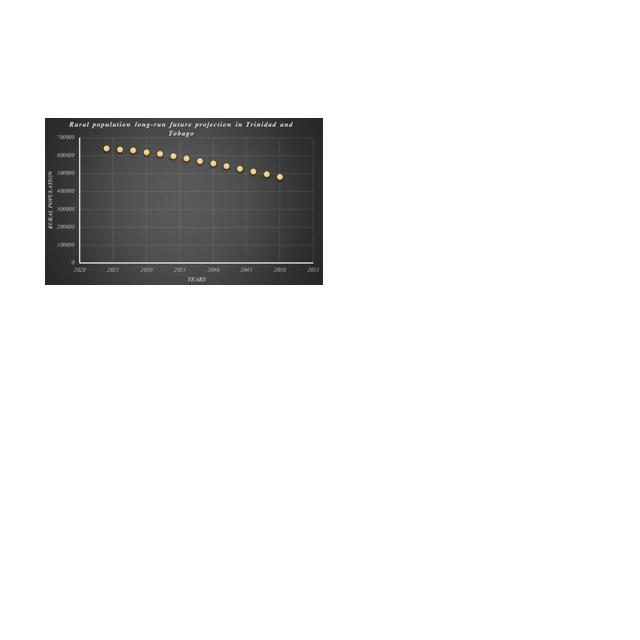Graph: (45, 118, 323, 285)
